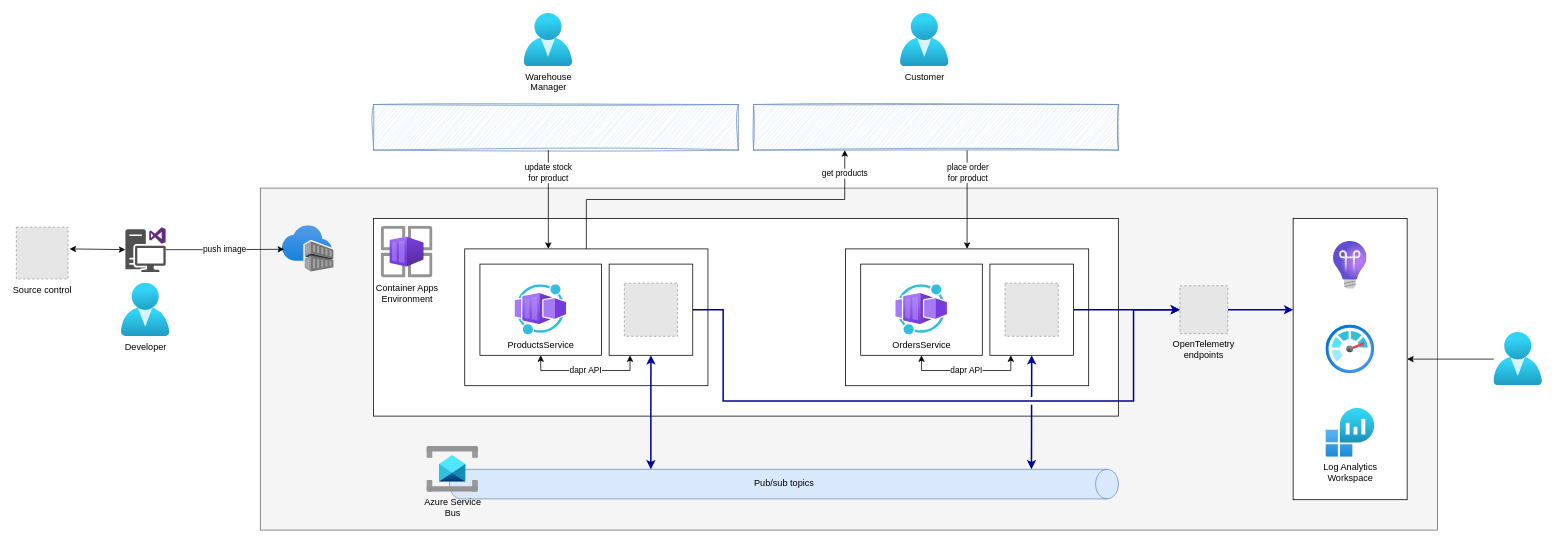
Some shapes in this 1556 by 543 pixel diagram are drawn without their labels. Grey dashed boxes stand in for pictures. The box of each missing label's shape, as (x1, y1, x2, y2) in pixels:
Application Insights: (1333, 241, 1366, 289)
Azure Container Registry: (282, 225, 334, 272)
Azure Monitor: (1325, 325, 1374, 373)
Back office UI [Not produced]: (373, 104, 738, 150)
Operations Team: (1493, 332, 1542, 385)
Storefront UI [Not produced]: (753, 104, 1118, 150)
